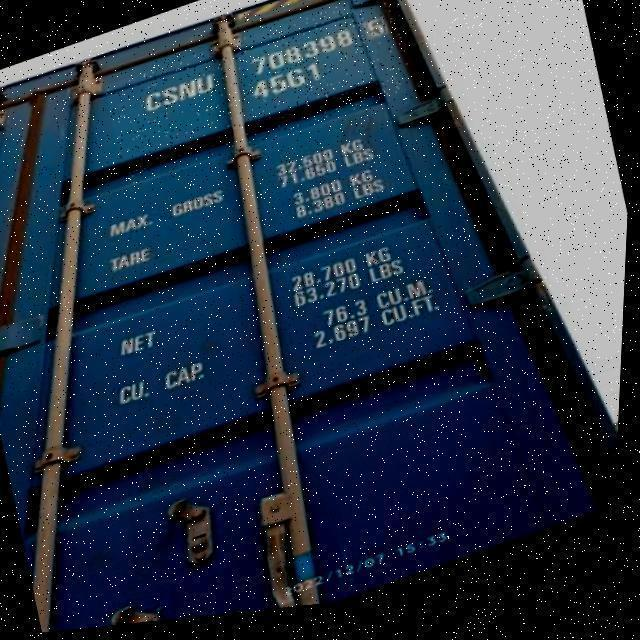ISO: (245, 60, 326, 102)
container_number: (138, 9, 386, 118)
